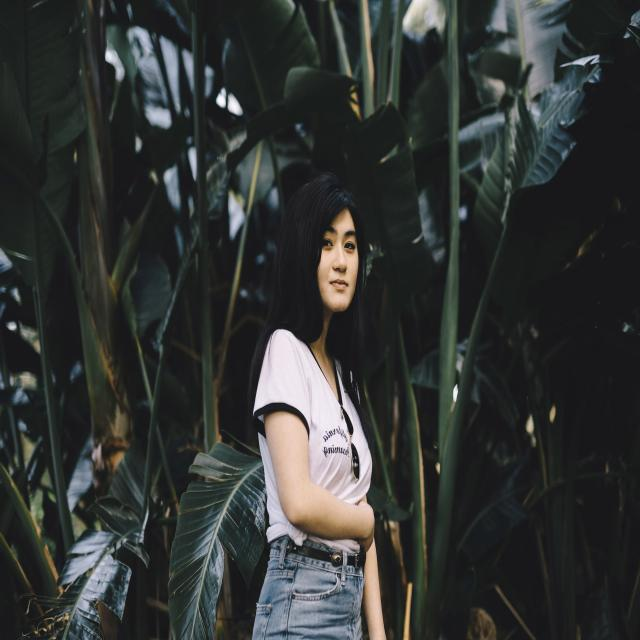adult: (254, 178, 384, 640)
